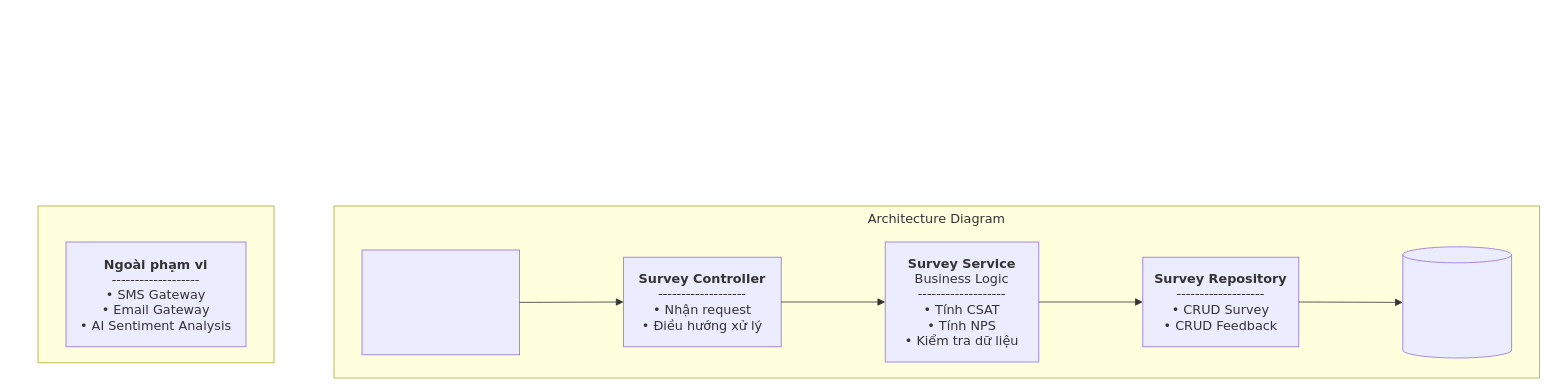
Image size: 1554x392. Some labels were removed from this diagram. The shapes that lost their labels are listed below. From the top down, each one's box as (x1, y1, x2, y2) in pixels, then its label:
(37, 205, 274, 363): Outside Scope
(361, 249, 520, 355): User UI Web Interface ------------------- • Hiển thị khảo sát • Hiển thị báo cáo
(1402, 246, 1512, 358): MySQL Database ------------------- • Lưu Customer • Lưu Survey • Lưu Feedback
